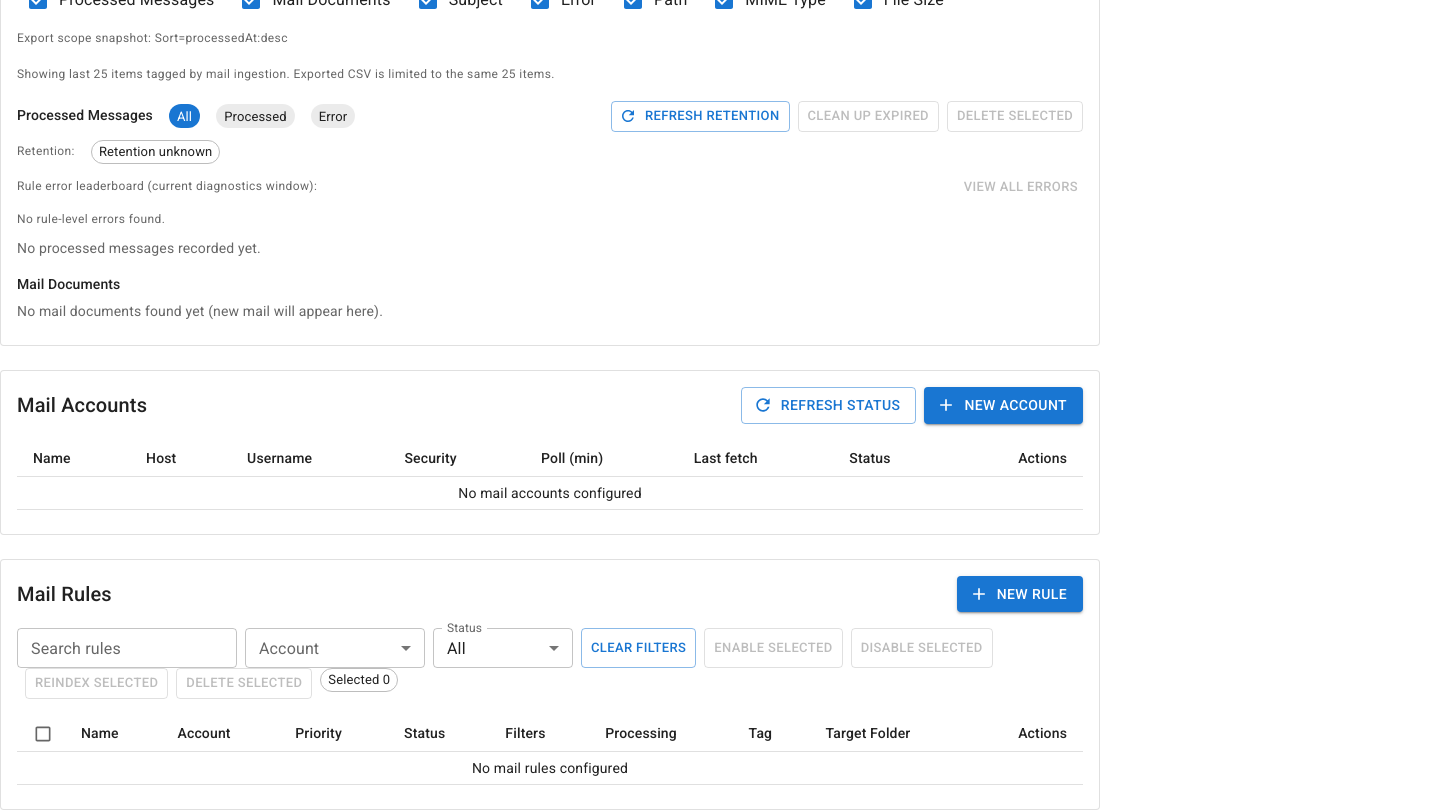
Test case: MailAutomationPage provider preset dropdown › preset endpoint failure does not crash the page; dropdown still renders Custom
(page scrolled)
Click the button "New Account".
click(1004, 405)  # box [924,387,1083,424]
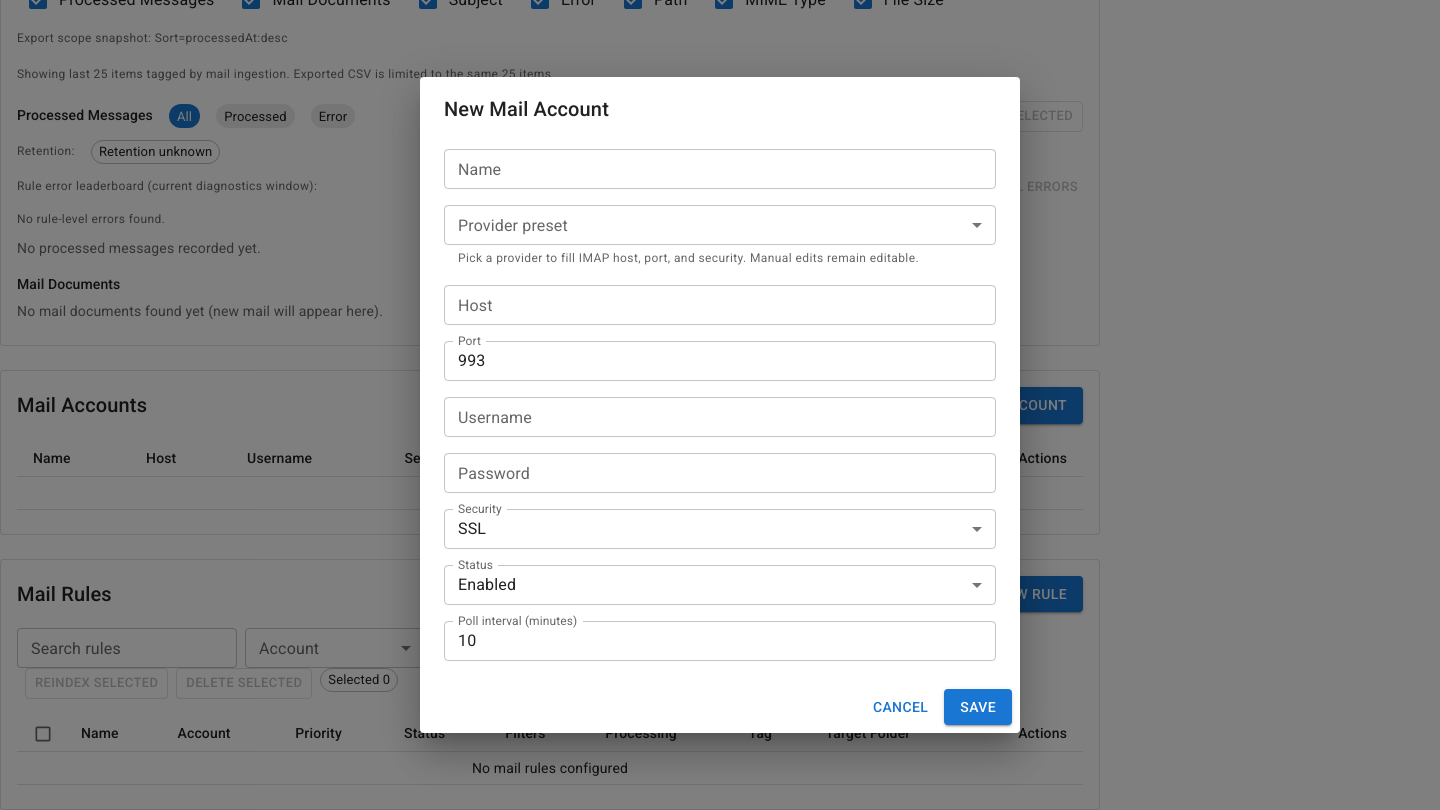
Press the mouse on the dropdown named "Provider preset" at (720, 225), box [444,205,996,245]
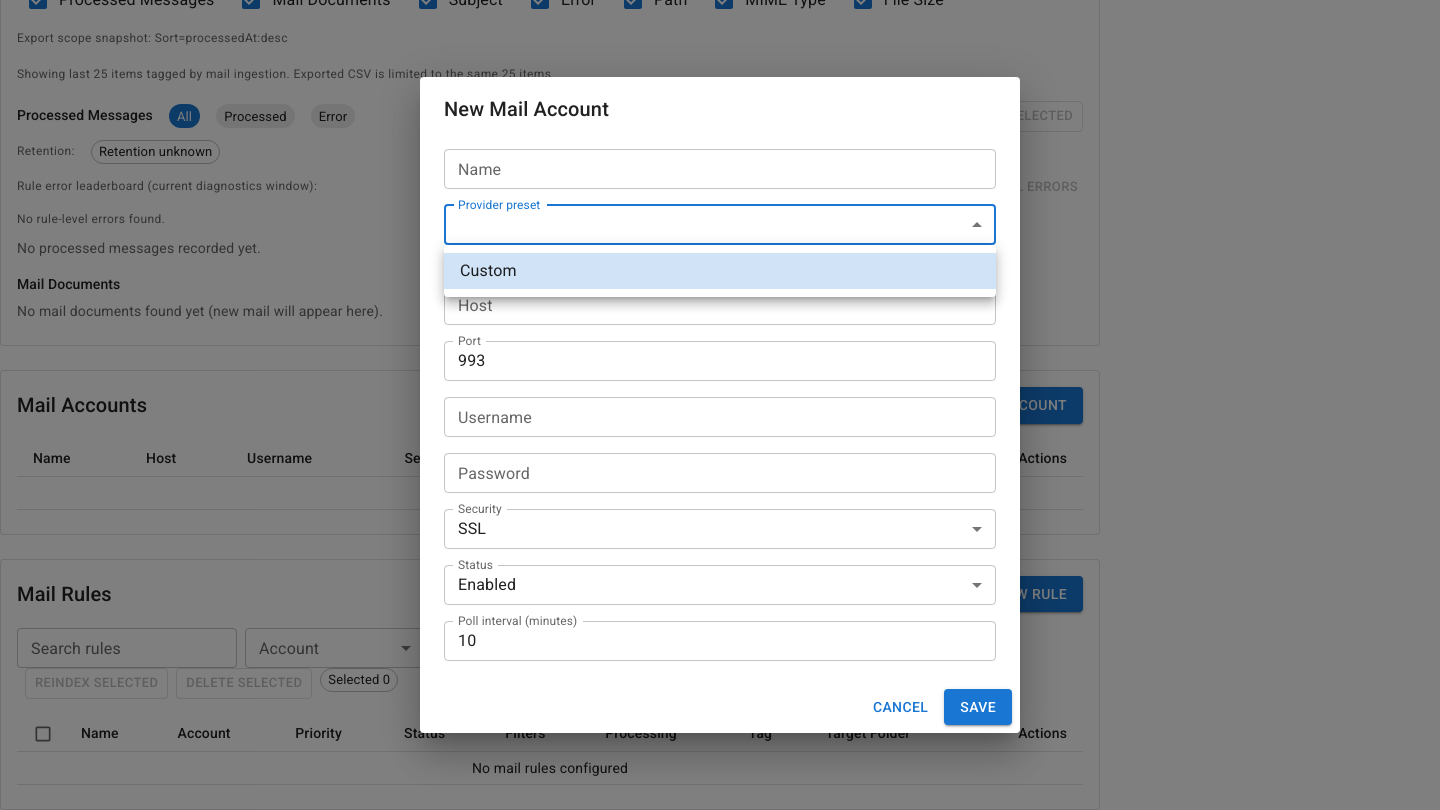
Expected: the option "Custom" is shown, [444,253,996,289]
